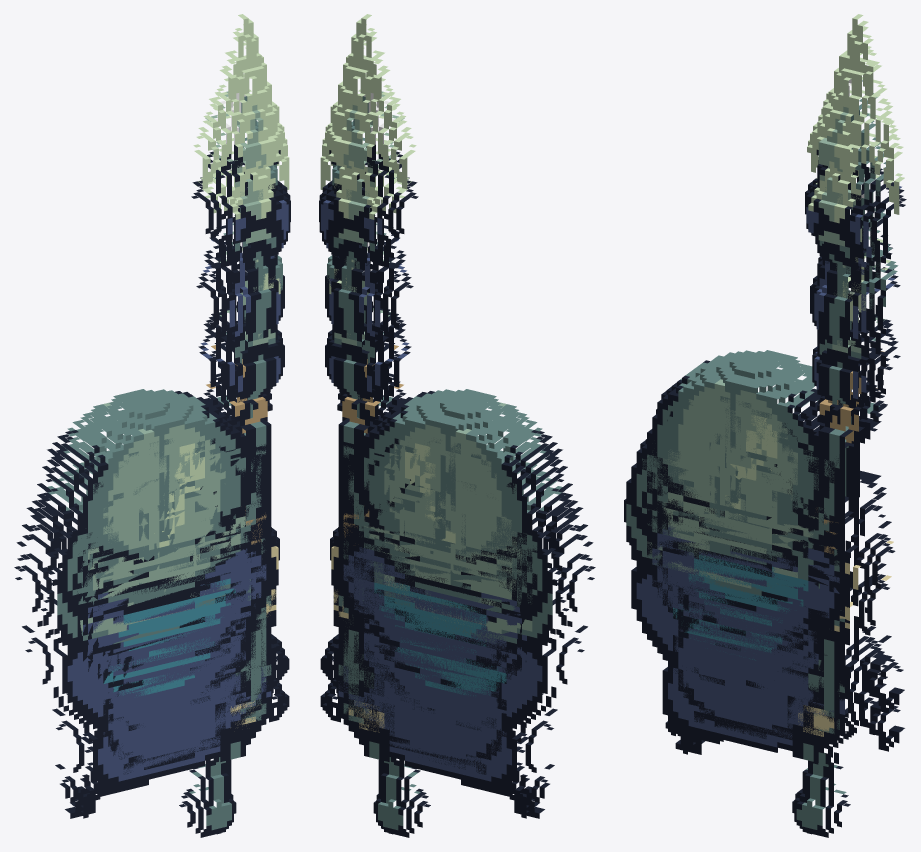
File: lanceiro_golpe_cima.glb
3 renders of one model, left to right at view 1: azimuth 30°, elevation 25°; view 2: azimuth 150°, elevation 25°; view 3: azimuth 330°, elevation 25°, orthographic. The views are drawn at different scales.
Visible parts, largest first — view 1: q0, q1, q2; view 2: q0, q2, q1; view 3: q0, q1, q2.
Boxes of the visible parts, x1,y1,x2,y2 form: q0: (35,14,289,818); q1: (29,18,290,759); q2: (14,215,289,837); q0: (320,14,574,818); q2: (320,215,595,837); q1: (319,19,580,760); q0: (647,14,904,753); q1: (642,19,906,742); q2: (624,177,904,837).
Size of the model in its own units: 51 by 151 by 14.
1 material, 1 textured.
